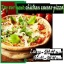pizza: (1, 8, 55, 56)
